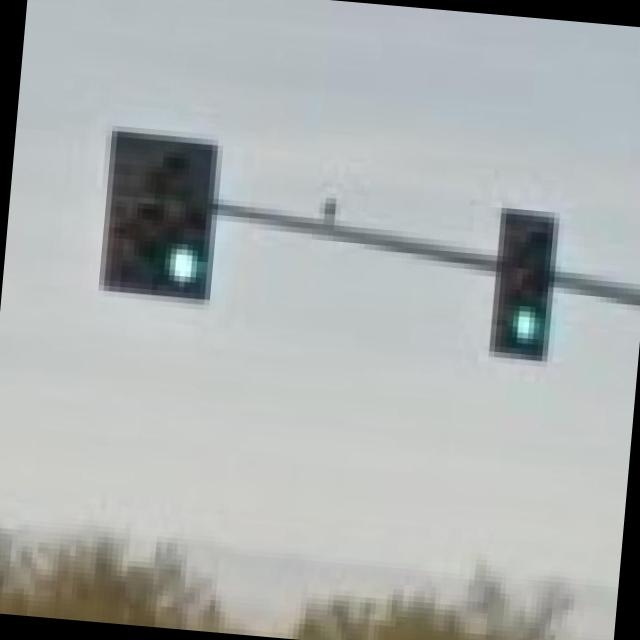green-lights: (162, 224, 226, 294), (500, 289, 560, 360)
